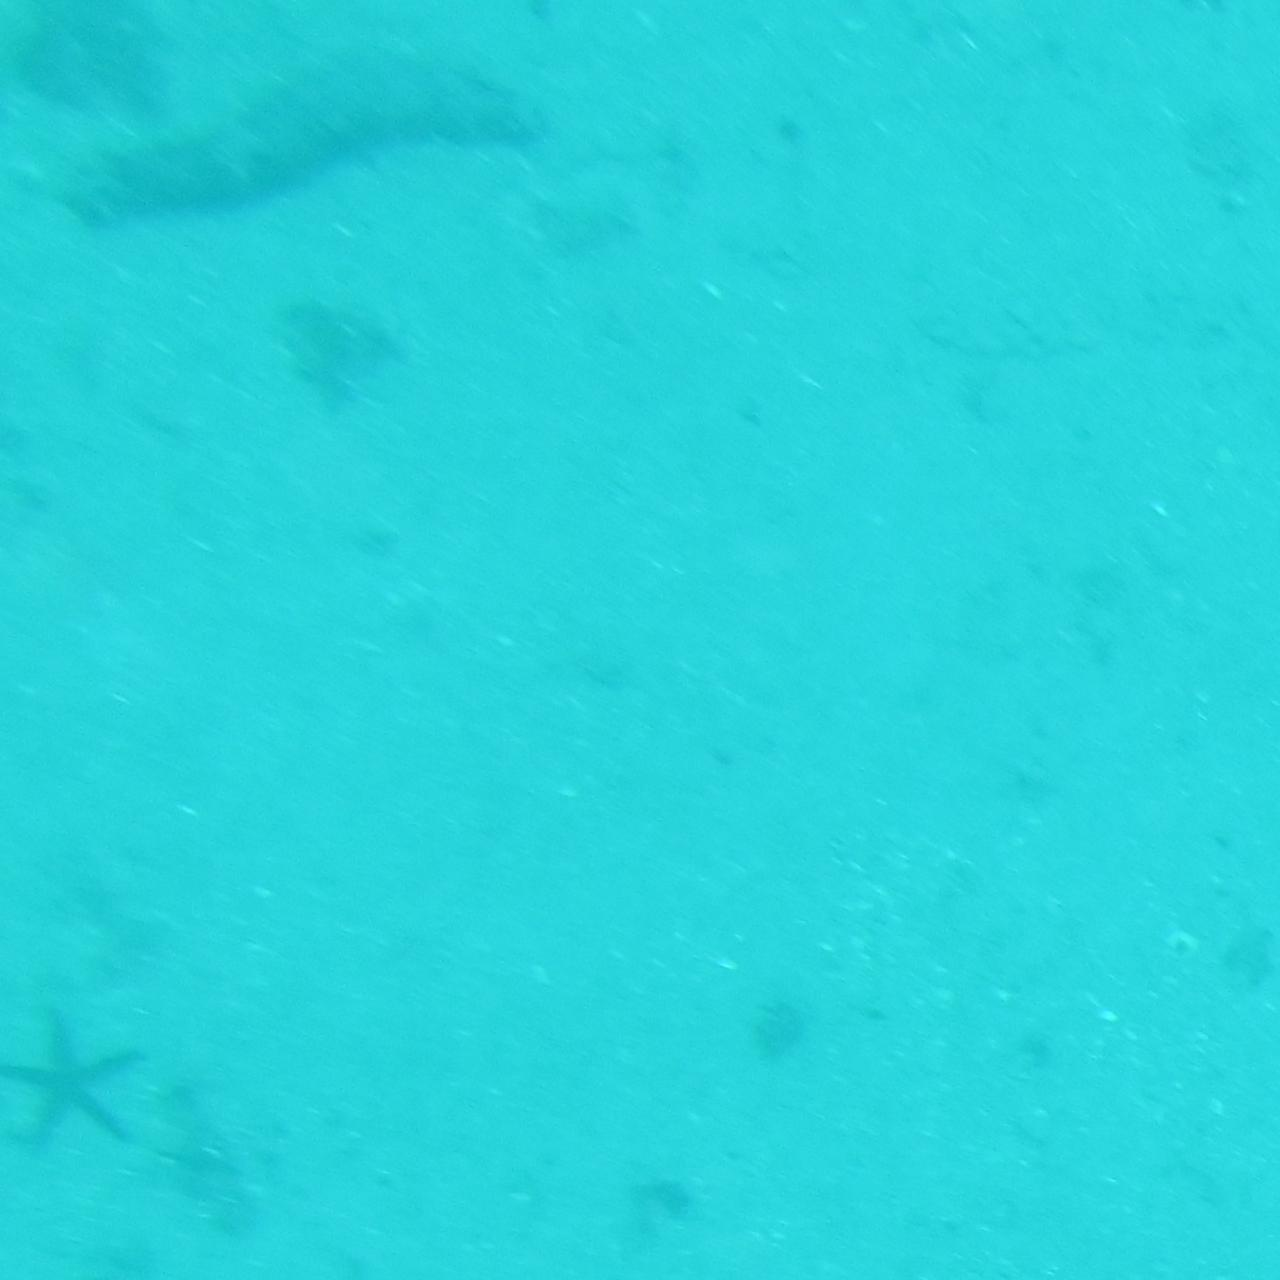Holothuria tubulosa: (49, 45, 554, 243)
